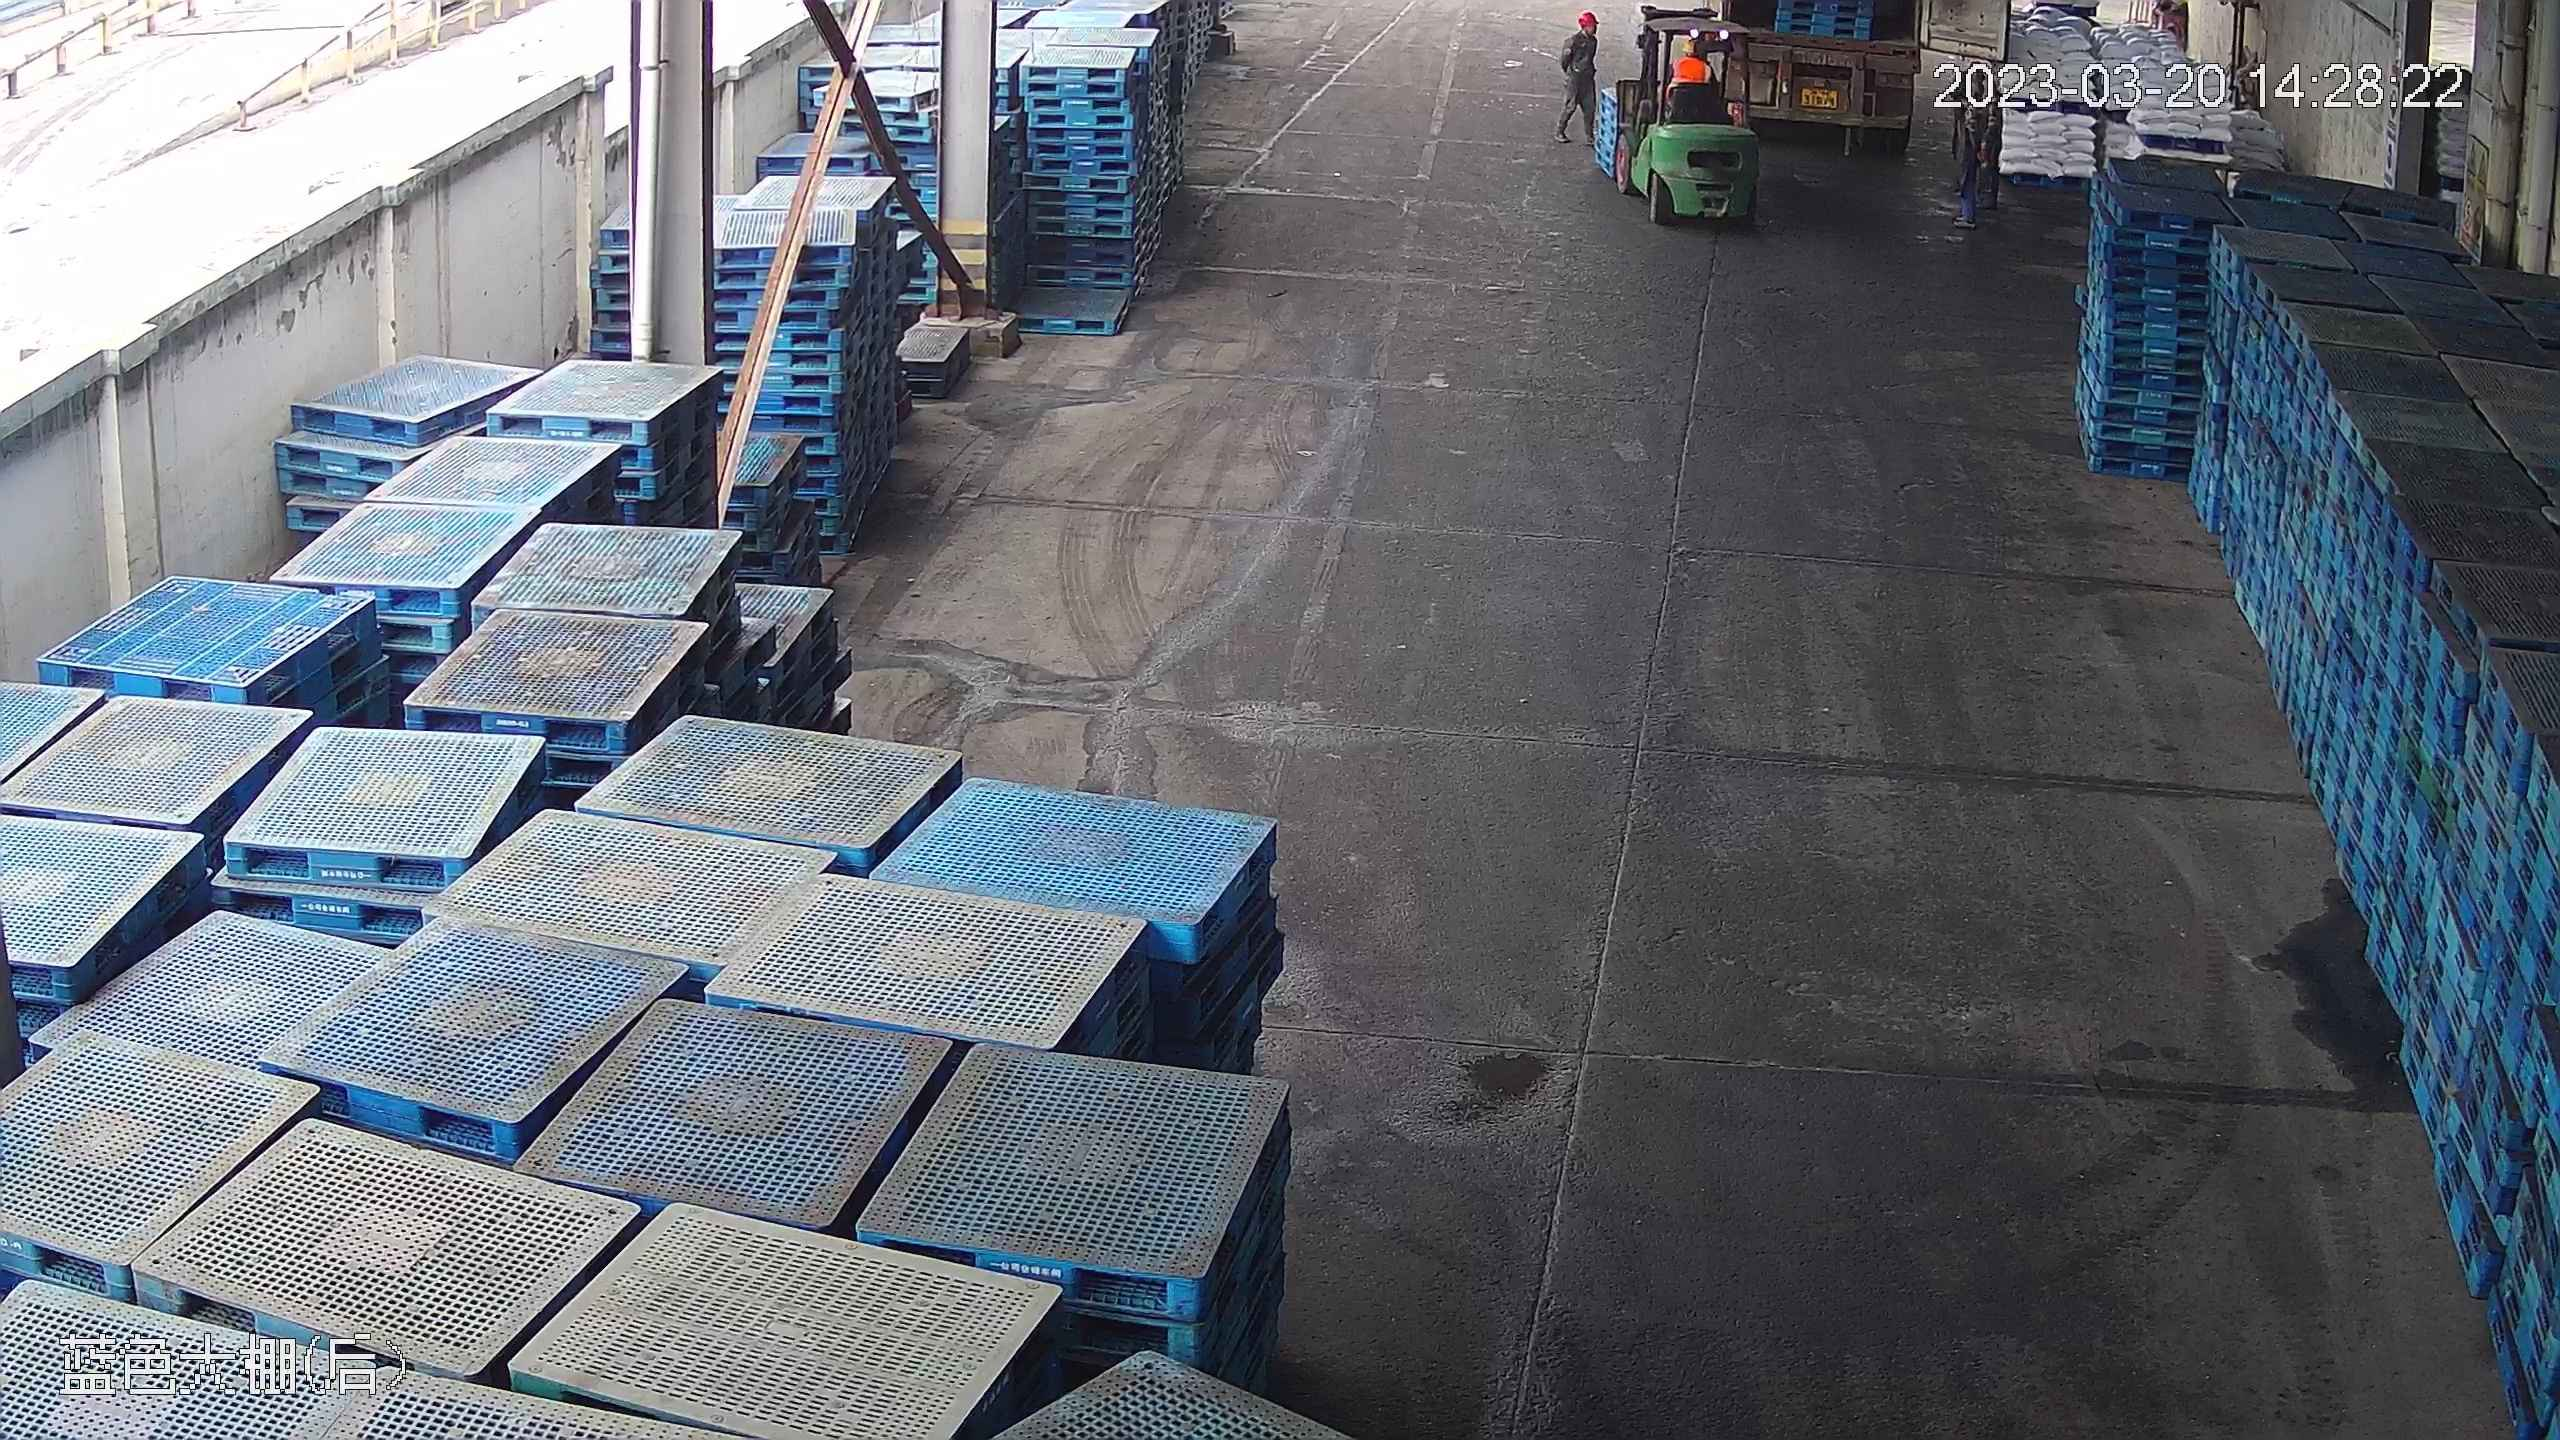head: (1565, 9, 1601, 52)
helmet: (1576, 9, 1600, 29)
people: (1557, 7, 1602, 140)
